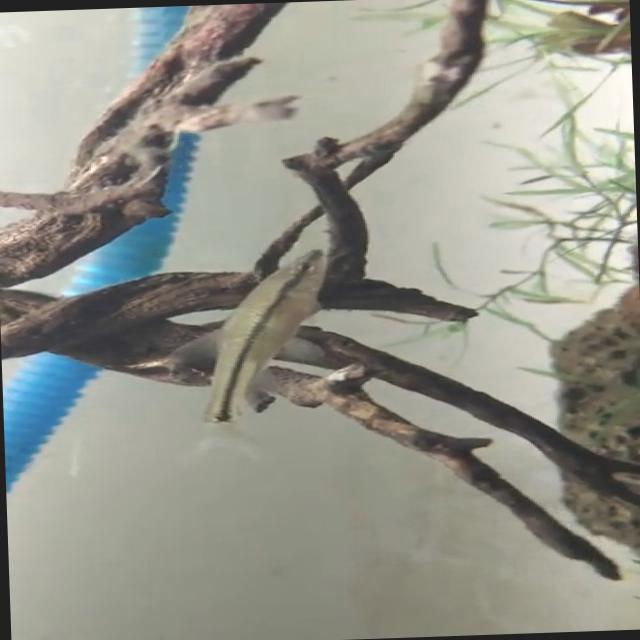Cakil Baligi: (147, 245, 340, 455)
